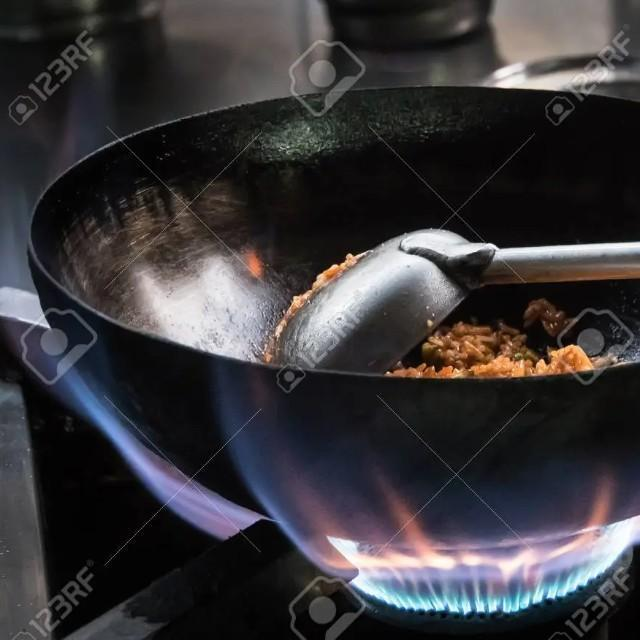Flame: (70, 363, 639, 616)
Pan: (20, 63, 640, 539)
